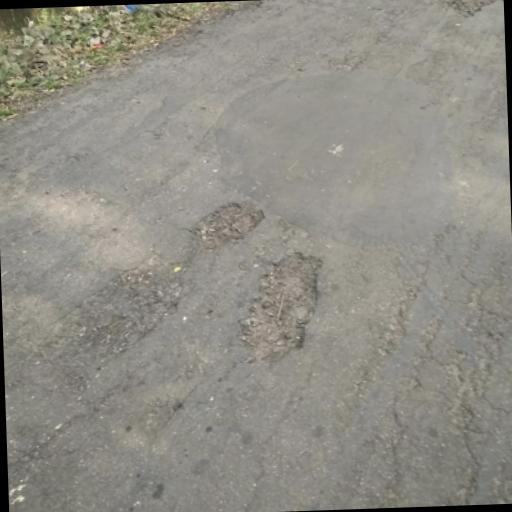pothole: (48, 252, 188, 358), (234, 246, 326, 366), (185, 200, 267, 254), (422, 0, 502, 18)
